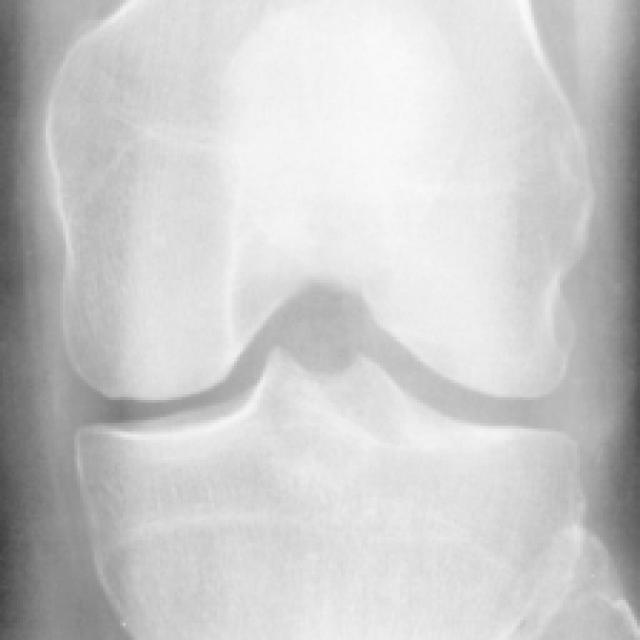femur: (48, 1, 594, 403)
tibia: (80, 349, 580, 640)
